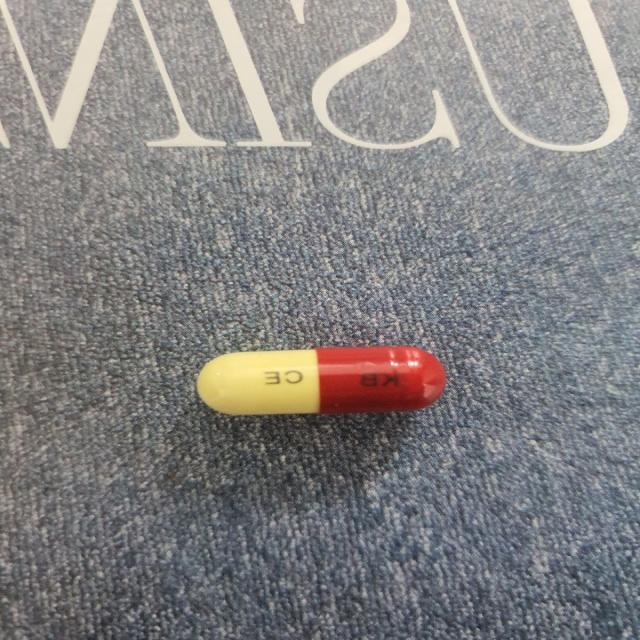pill: (177, 327, 451, 419)
